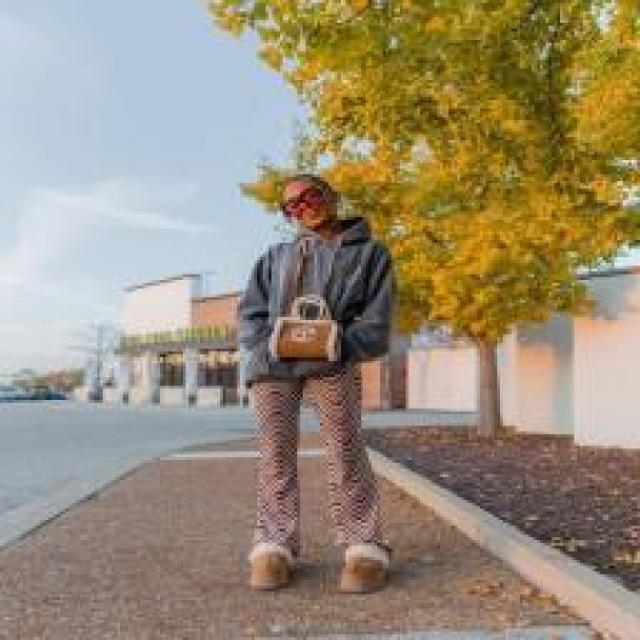shoe: (338, 545, 391, 594), (249, 543, 293, 590)
